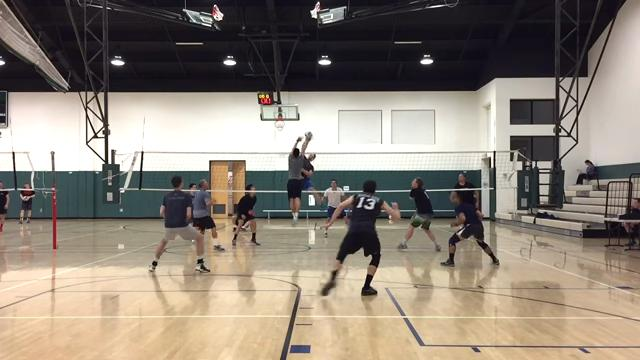attacco: (294, 149, 325, 206)
muro: (280, 132, 310, 221)
